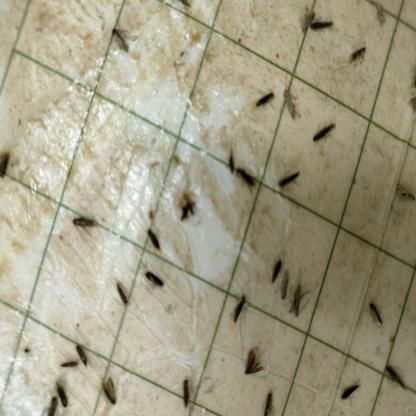prays_oleae: (275, 160, 306, 212), (307, 8, 335, 44), (381, 352, 405, 394), (109, 25, 135, 61), (243, 342, 266, 381), (252, 79, 277, 114), (338, 376, 367, 406), (346, 46, 374, 77), (312, 116, 336, 151), (235, 160, 256, 199), (392, 178, 416, 212), (69, 209, 95, 240), (142, 222, 163, 259), (98, 372, 119, 408), (282, 82, 300, 123), (267, 242, 282, 290), (366, 295, 384, 333), (53, 374, 71, 412), (229, 292, 251, 323), (179, 371, 195, 413), (144, 267, 164, 295), (278, 268, 292, 307), (296, 278, 308, 322), (114, 276, 128, 309), (77, 340, 90, 372)
